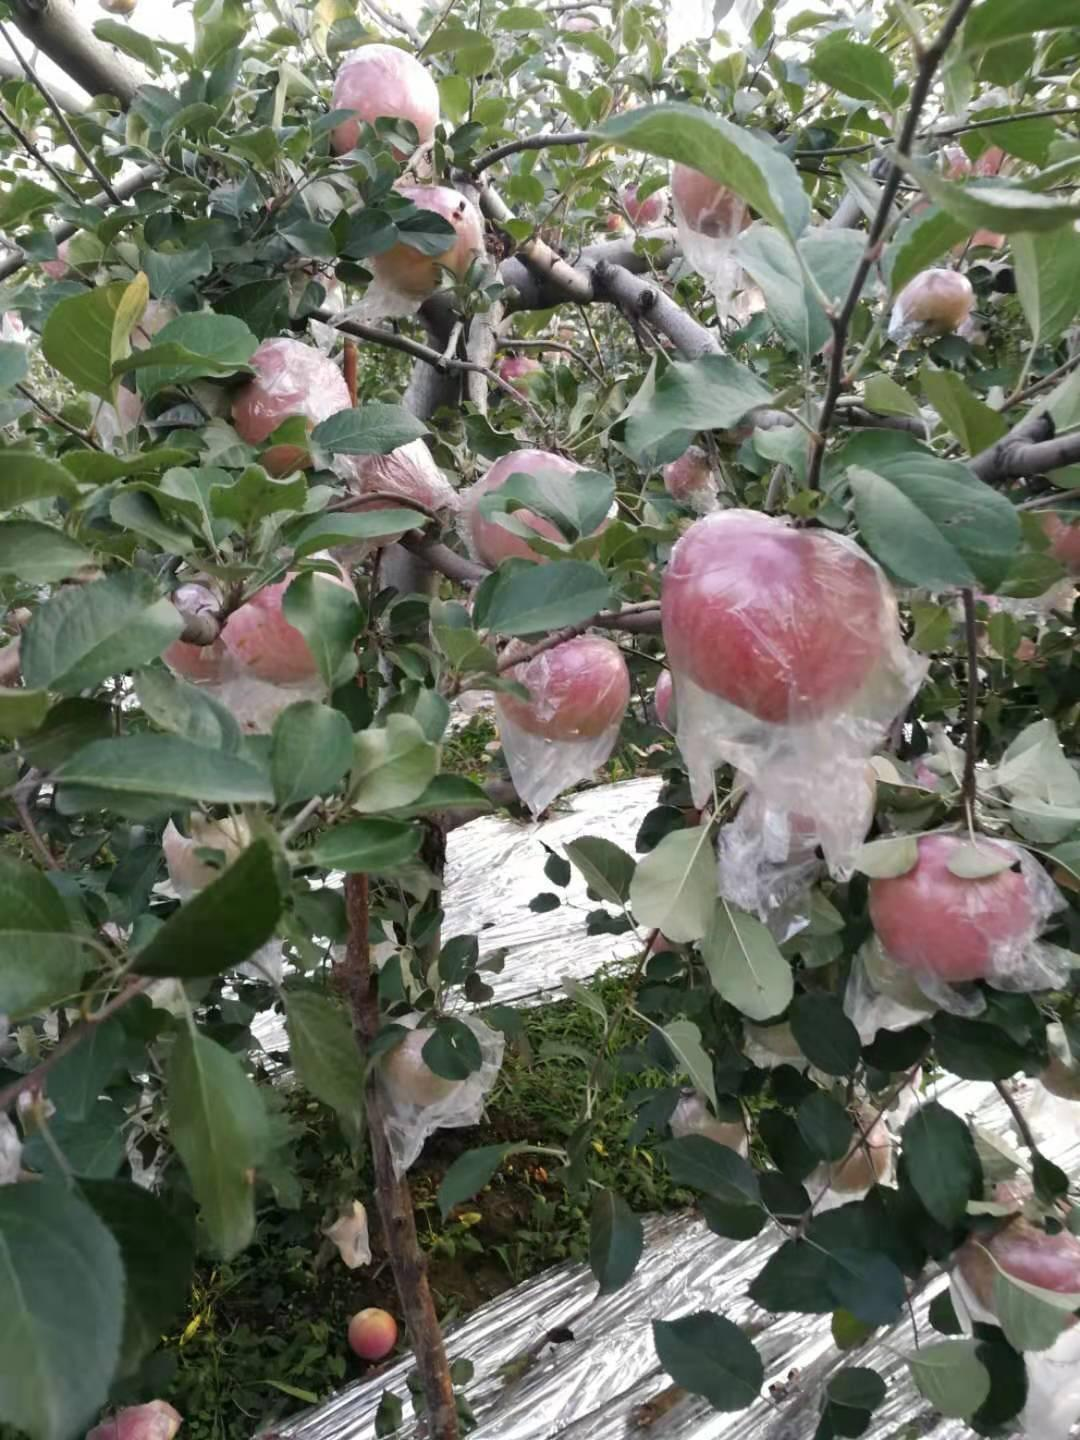apple: (666, 508, 886, 727), (862, 830, 1043, 986), (323, 45, 440, 167), (503, 639, 628, 745), (886, 266, 977, 344), (349, 1304, 398, 1361)
